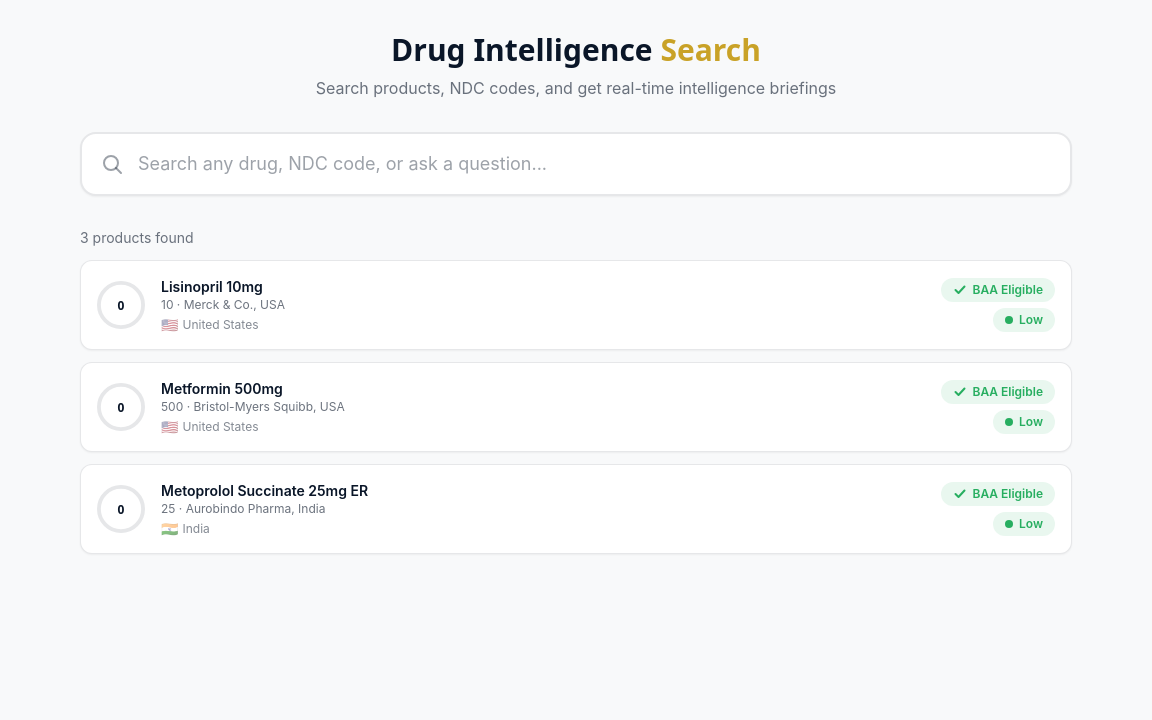
Scenario: SearchHub › opens intelligence briefing when a product card is clicked
The width and height of the screenshot is (1152, 720).
Click the button with test id "product-card" at (121, 305), box [80,260,1072,350]
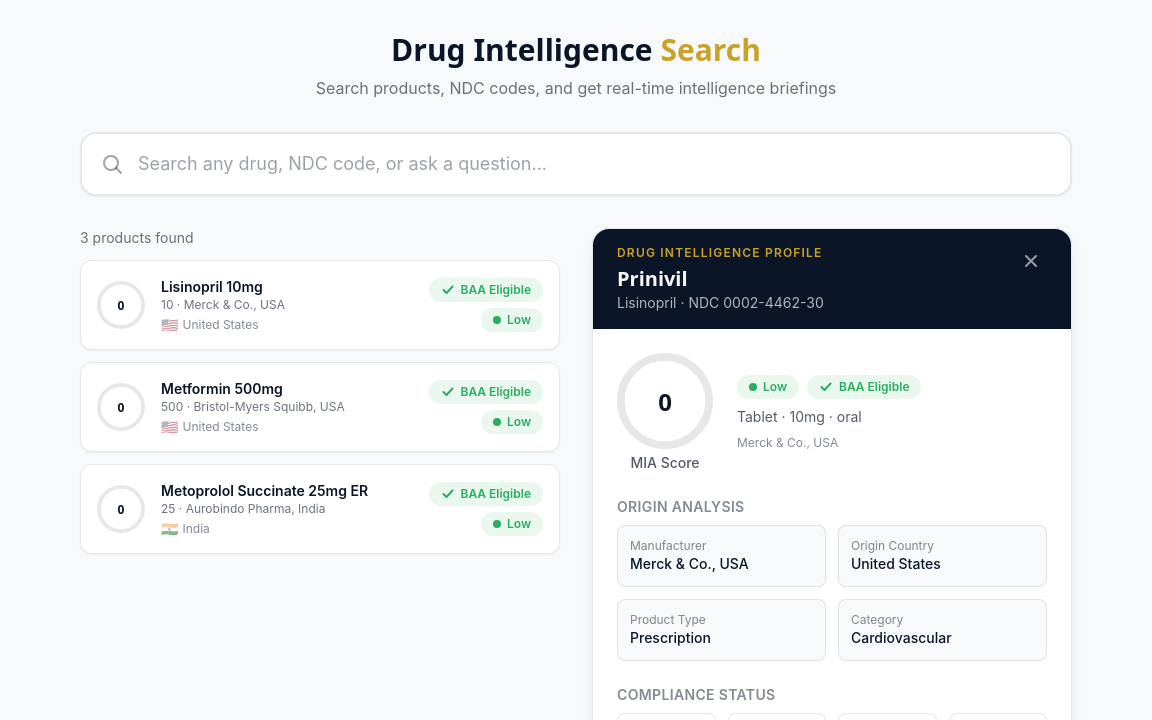
Expected: the text "Drug Intelligence Profile" is shown, [617,245,824,261]
Expected: the heading "Prinivil" is shown, [617,265,688,292]
